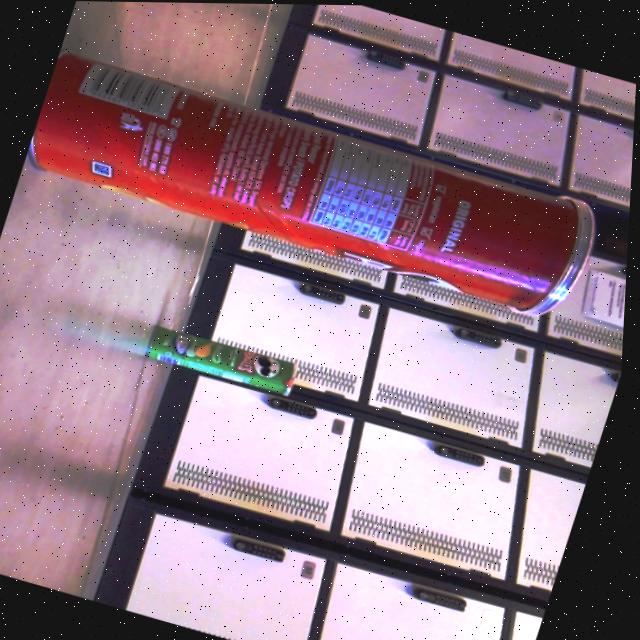greenpringles: (133, 306, 331, 422)
redpringles: (14, 34, 632, 335)
